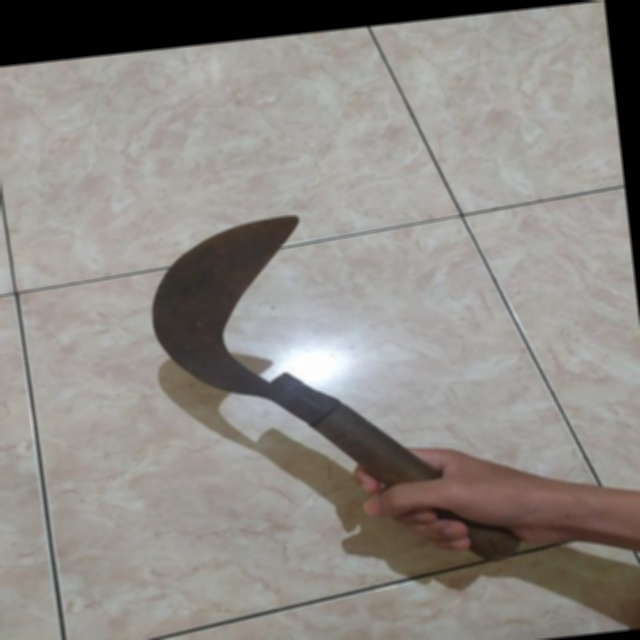Sharp-Object: (129, 182, 529, 603)
